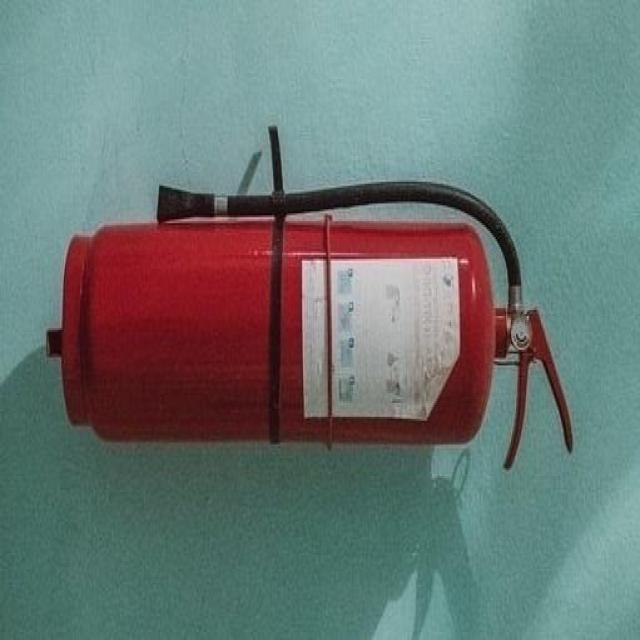fire_extinguisher: (57, 173, 577, 477)
